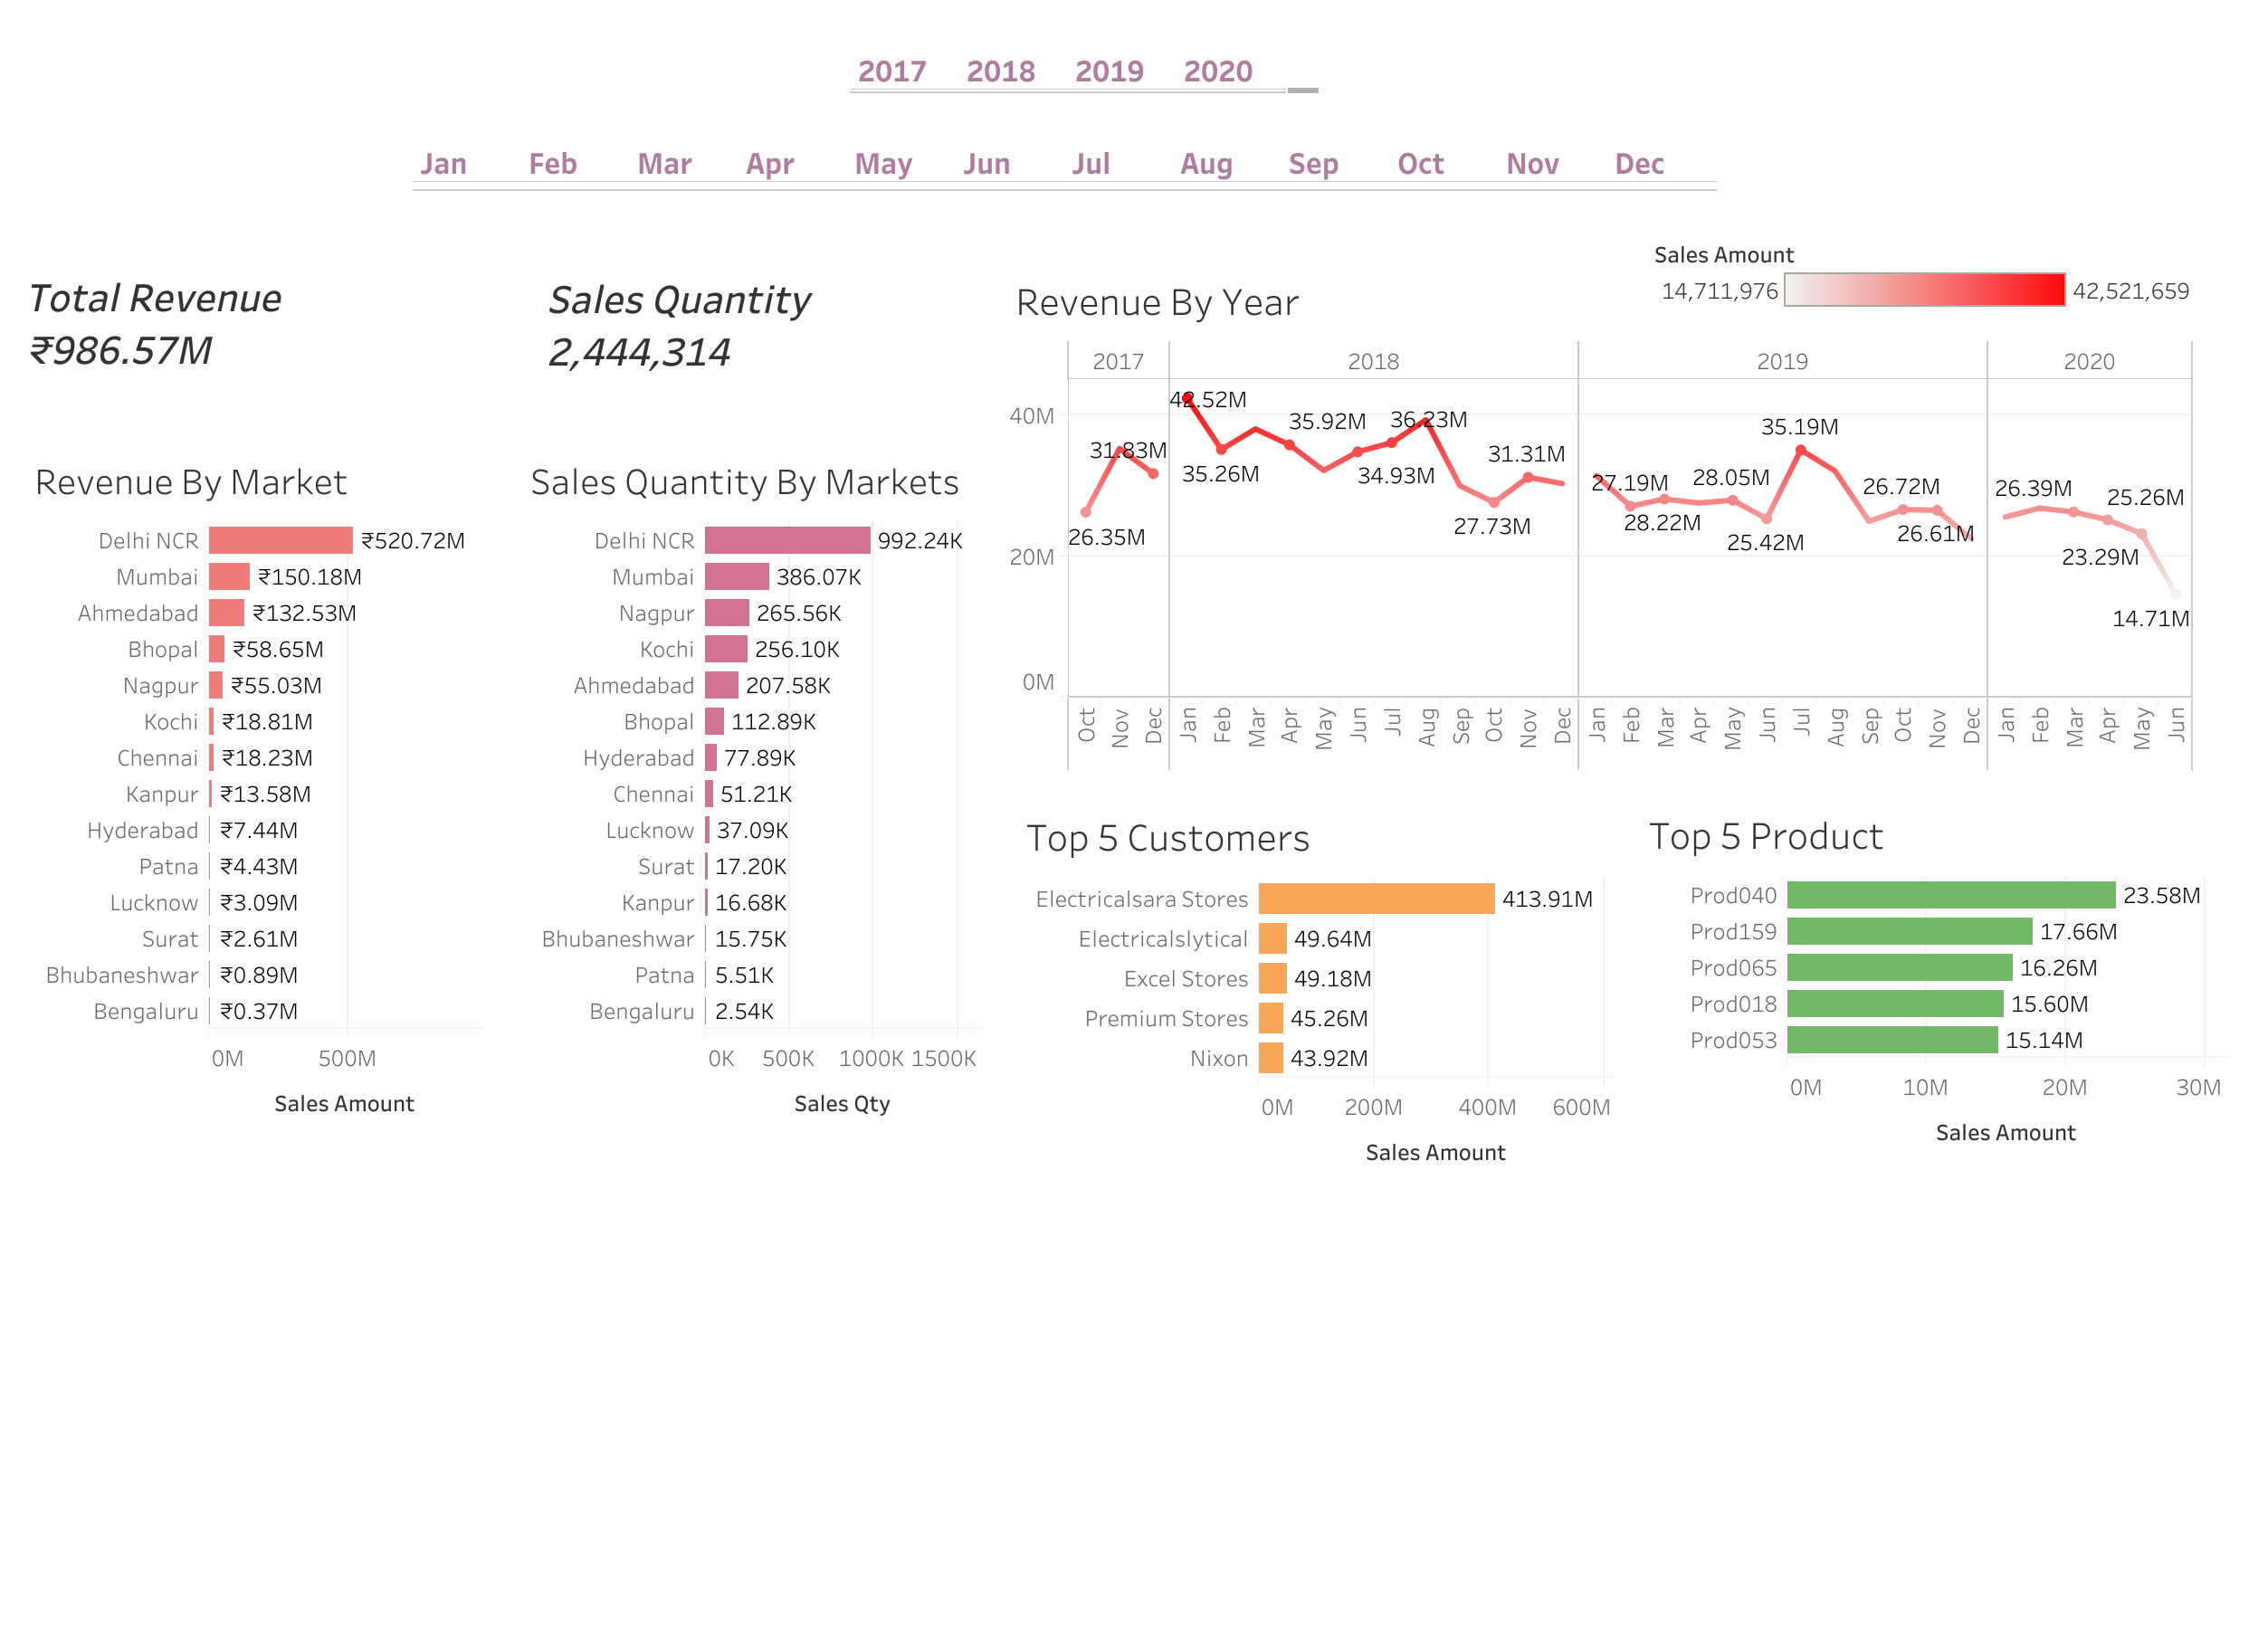

What the dashboard file says about the page in this screenshot:
{"tool":"tableau","page":{"name":"Dashboard 1","canvas":[1000,1000],"units":"permille","ordinal":0},"visuals":[{"type":"worksheet","title":"Year","mark":"Automatic","cols":["cy_date"],"box":[375,14.4,234.2,43.3]},{"type":"worksheet","title":"Month","mark":"Automatic","cols":["cy_date"],"box":[181.7,71.1,611.7,124.4]},{"type":"legend","title":"Revenue By Year","param":"[federated.0qgkt161hyp8bp15ce0hk0uqcret].[sum:sales_amount:qk]","box":[729.2,141.1,240,48.9]},{"type":"worksheet","title":"Revenue","mark":"Automatic","box":[8,148.9,128.7,113.3]},{"type":"worksheet","title":"Quantity","mark":"Automatic","box":[237.5,150,175.8,102.2]},{"type":"worksheet","title":"Revenue By Year","mark":"Automatic","rows":["sales_amount"],"cols":["cy_date","cy_date"],"box":[444.2,162.2,522.5,311.1]},{"type":"worksheet","title":"Revenue By Market","mark":"Automatic","rows":["markets_name"],"cols":["sales_amount"],"box":[11.7,273.3,200.8,510]},{"type":"worksheet","title":"Sales Quantity By Markets","mark":"Automatic","rows":["markets_name"],"cols":["sales_qty"],"box":[230.8,273.3,201.7,504.4]},{"type":"worksheet","title":"Top 5 Product ","mark":"Automatic","rows":["product_code (products.csv)"],"cols":["sales_amount"],"box":[723.3,490,257.5,265.6]},{"type":"worksheet","title":"Top 5 Customers","mark":"Automatic","rows":["custmer_name"],"cols":["sales_amount"],"box":[449.2,491.1,262.5,233.3]}]}

Visuals, with their boxes on the dashboard's canvas, which has no fixed pixel size, in thousandths of its width and height (x1, y1, x2, y2). These are canvas units, not pixel positions in the 2268x1627 screenshot, which may show the page scaled, cropped or inside an application window:
"Year" worksheet: {"x1": 375, "y1": 14, "x2": 609, "y2": 58}
"Month" worksheet: {"x1": 182, "y1": 71, "x2": 793, "y2": 196}
"Revenue By Year" legend: {"x1": 729, "y1": 141, "x2": 969, "y2": 190}
"Revenue" worksheet: {"x1": 8, "y1": 149, "x2": 137, "y2": 262}
"Quantity" worksheet: {"x1": 238, "y1": 150, "x2": 413, "y2": 252}
"Revenue By Year" worksheet: {"x1": 444, "y1": 162, "x2": 967, "y2": 473}
"Revenue By Market" worksheet: {"x1": 12, "y1": 273, "x2": 212, "y2": 783}
"Sales Quantity By Markets" worksheet: {"x1": 231, "y1": 273, "x2": 432, "y2": 778}
"Top 5 Product " worksheet: {"x1": 723, "y1": 490, "x2": 981, "y2": 756}
"Top 5 Customers" worksheet: {"x1": 449, "y1": 491, "x2": 712, "y2": 724}
